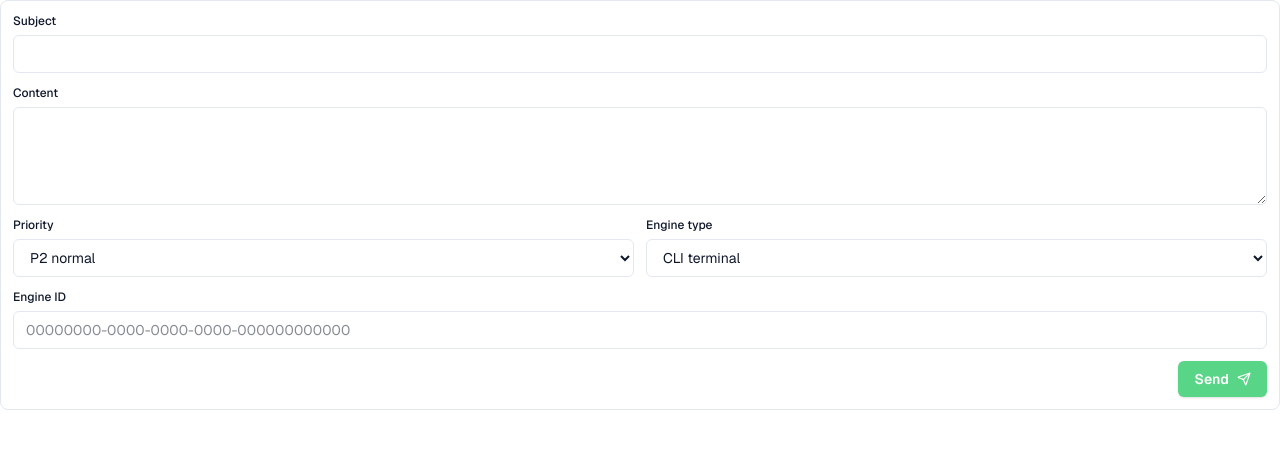
Test case: MessageComposer › shows a validation error when subject is empty on submit
Type "Hi" into the text box labelled "Content" at (640, 156), box [13, 107, 1267, 205]
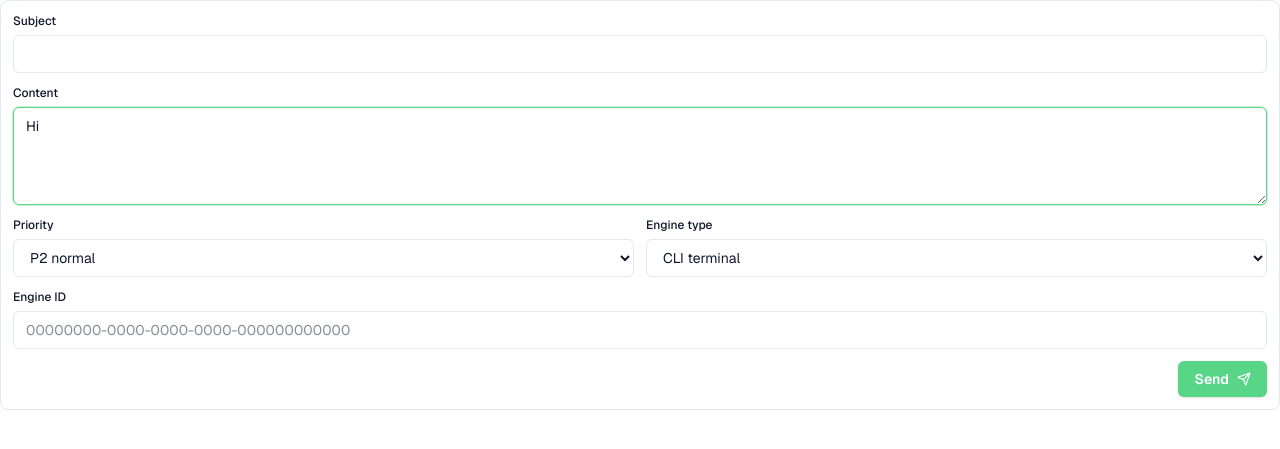
Type "66666666-6666-4666-8666-666666666666" into the field labelled "Engine ID" at (640, 330), box [13, 311, 1267, 349]
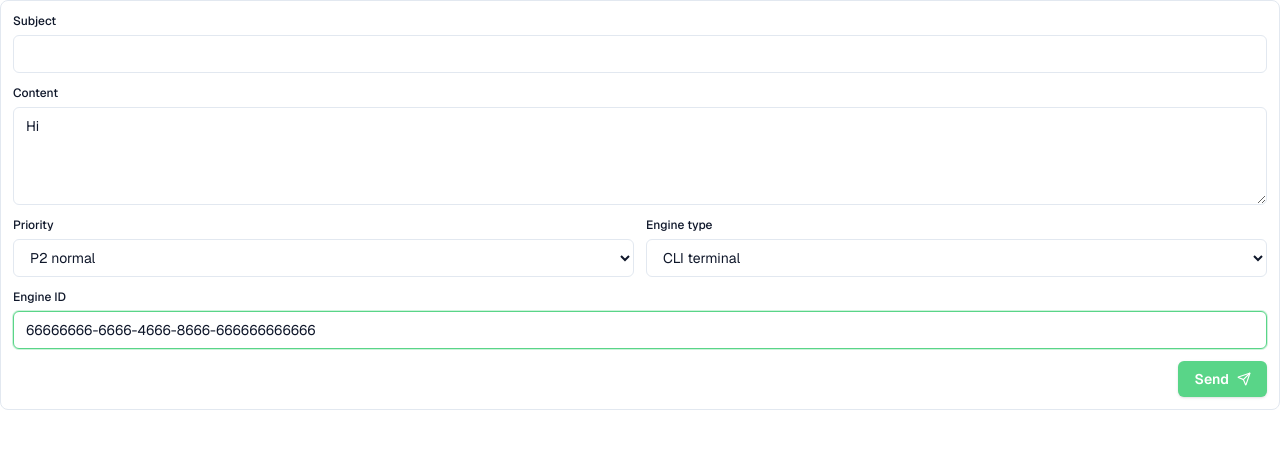
Click the button "Send" at (1223, 379), box [1178, 361, 1267, 397]
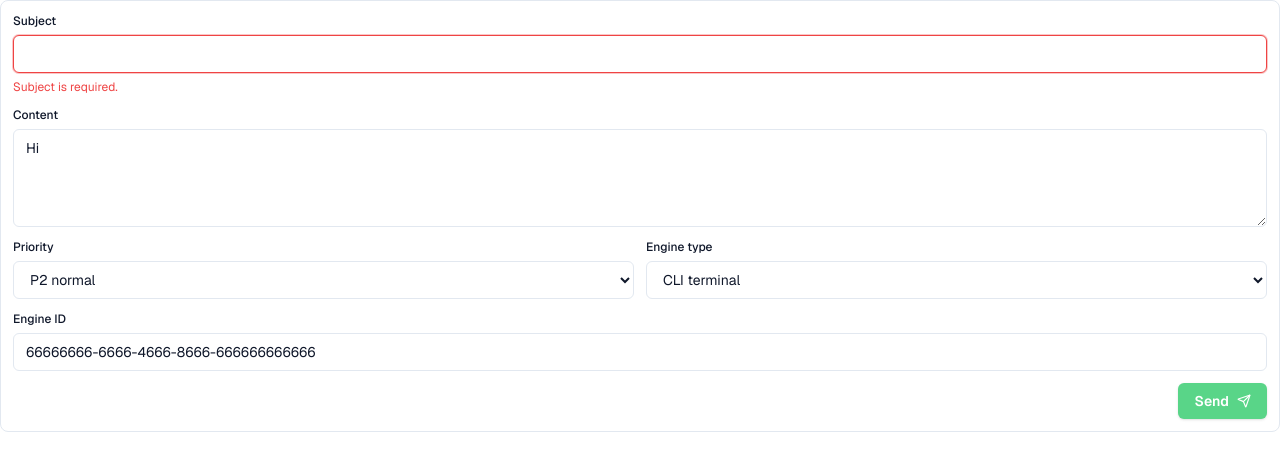
Result: the text "Subject is required." is shown at [13, 79, 118, 95]
